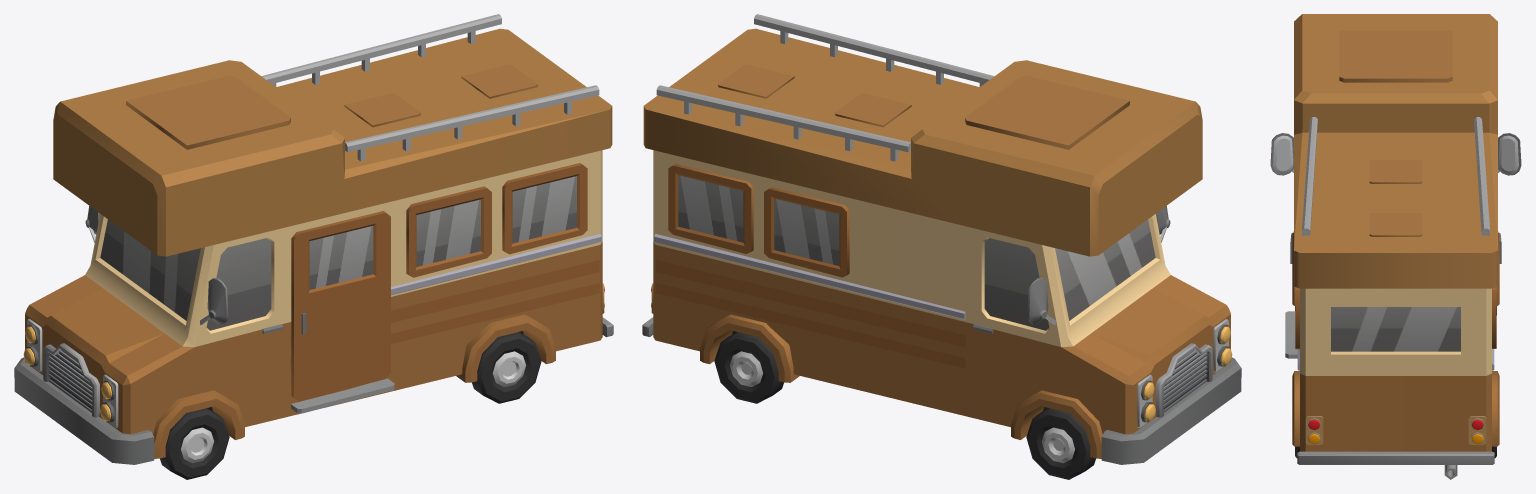
The model's file is RVCar_D.gltf.
3 renders of one model, left to right at view 1: azimuth 30°, elevation 25°; view 2: azimuth 150°, elevation 25°; view 3: azimuth 270°, elevation 25°, orthographic. The views are drawn at different scales.
Visible parts, largest first — view 1: RVCar_D, RL, FL; view 2: RVCar_D, RR, FR; view 3: RVCar_D.
Boxes of the visible parts, box(x1,y1,x2,y2) form: RVCar_D: box(14, 14, 613, 464); RL: box(472, 332, 541, 403); FL: box(160, 408, 229, 479); RVCar_D: box(642, 14, 1241, 464); RR: box(714, 332, 783, 403); FR: box(1026, 408, 1095, 479); RVCar_D: box(1270, 14, 1521, 479).
Bounding box in the file's own units: 4.14 × 2.46 × 1.94.
Materials: 4 (4 with a texture image).
